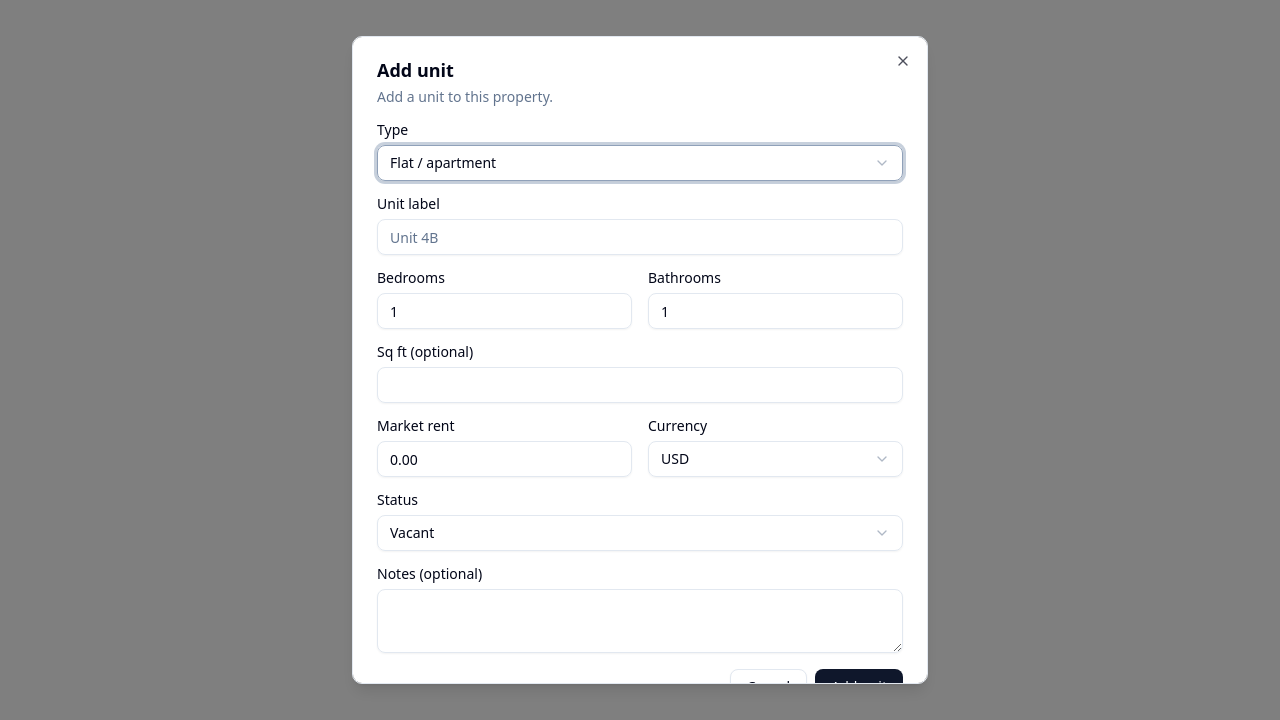
Test case: UnitFormDialog › switching back to flat brings the room fields back
Click the dropdown named "type".
click(443, 162)  # box [377,145,903,181]
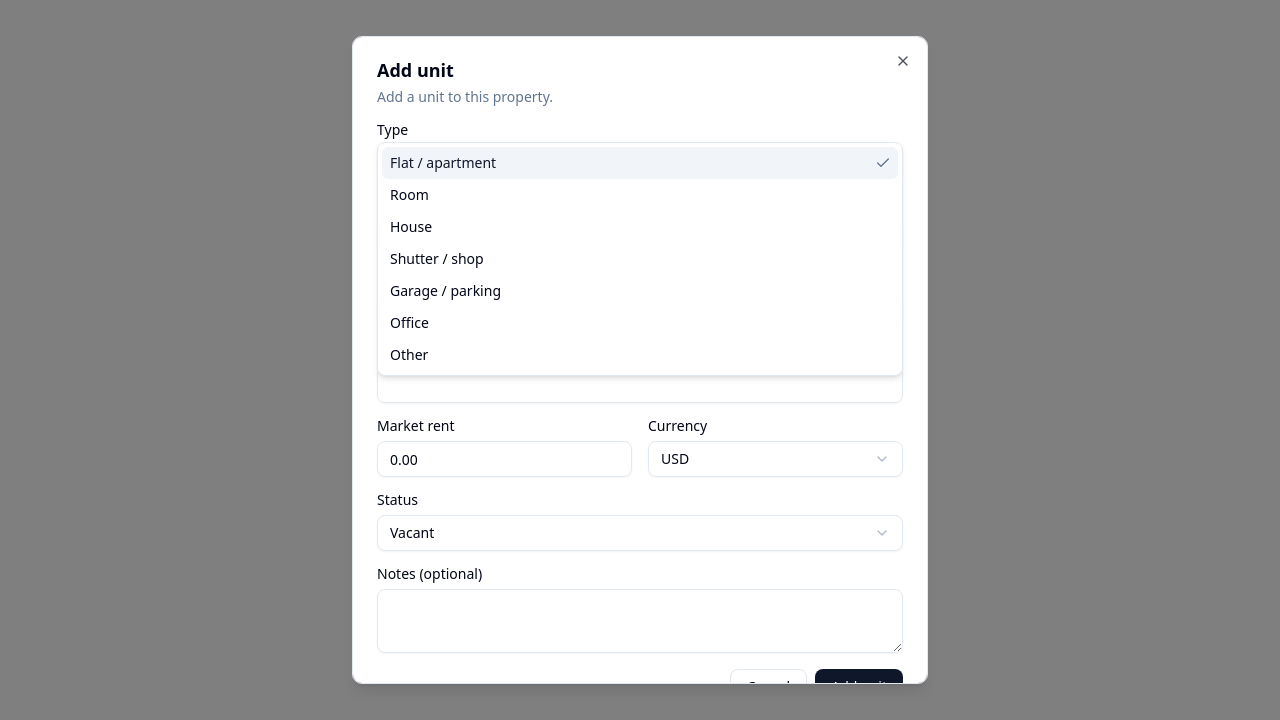
Click the option "Shutter / shop".
click(437, 258)  # box [390,249,484,268]
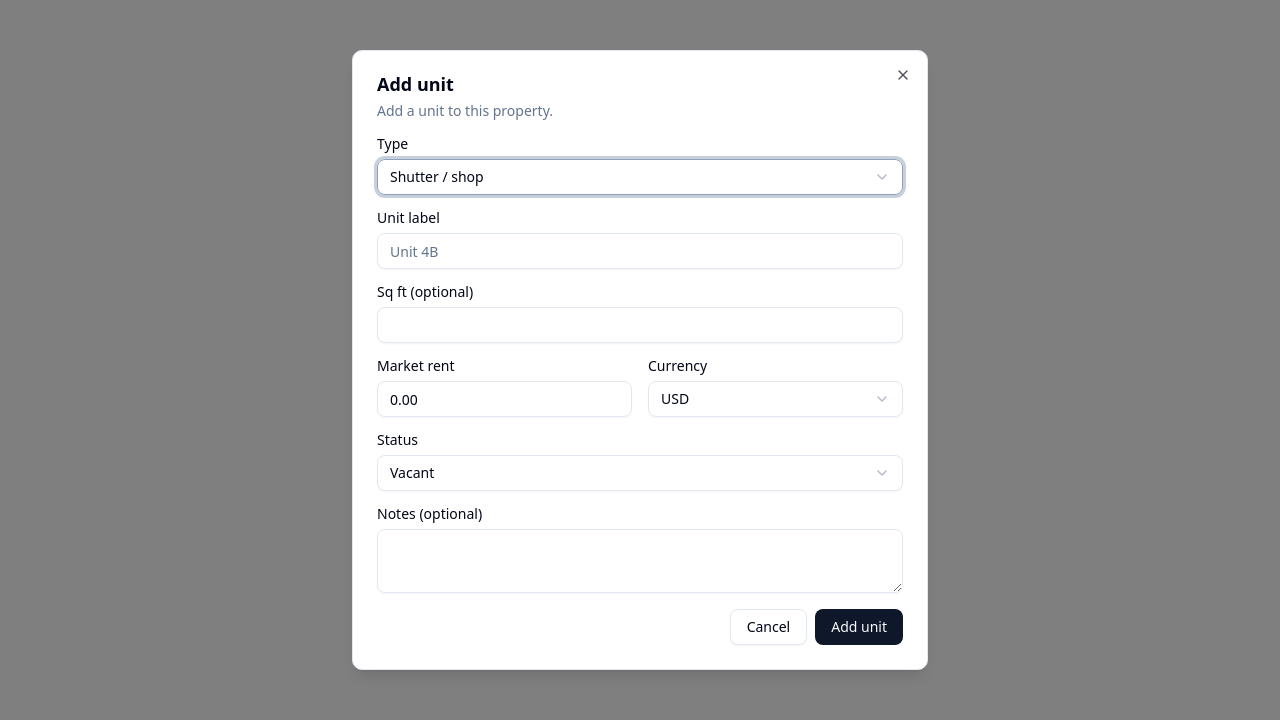
expect the label labelled "Bedrooms" is gone: met
Click the dropdown named "type".
click(437, 176)  # box [377,159,903,195]
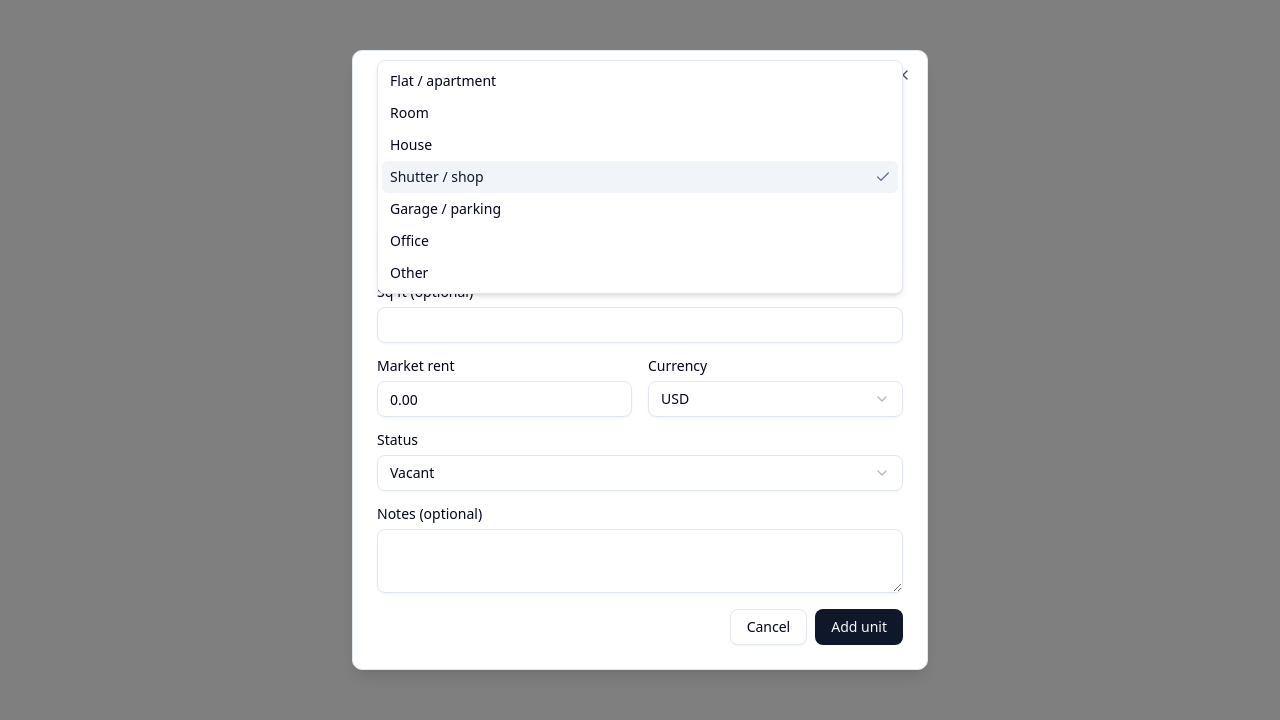
Click the option "Flat / apartment".
click(443, 80)  # box [390,71,496,90]
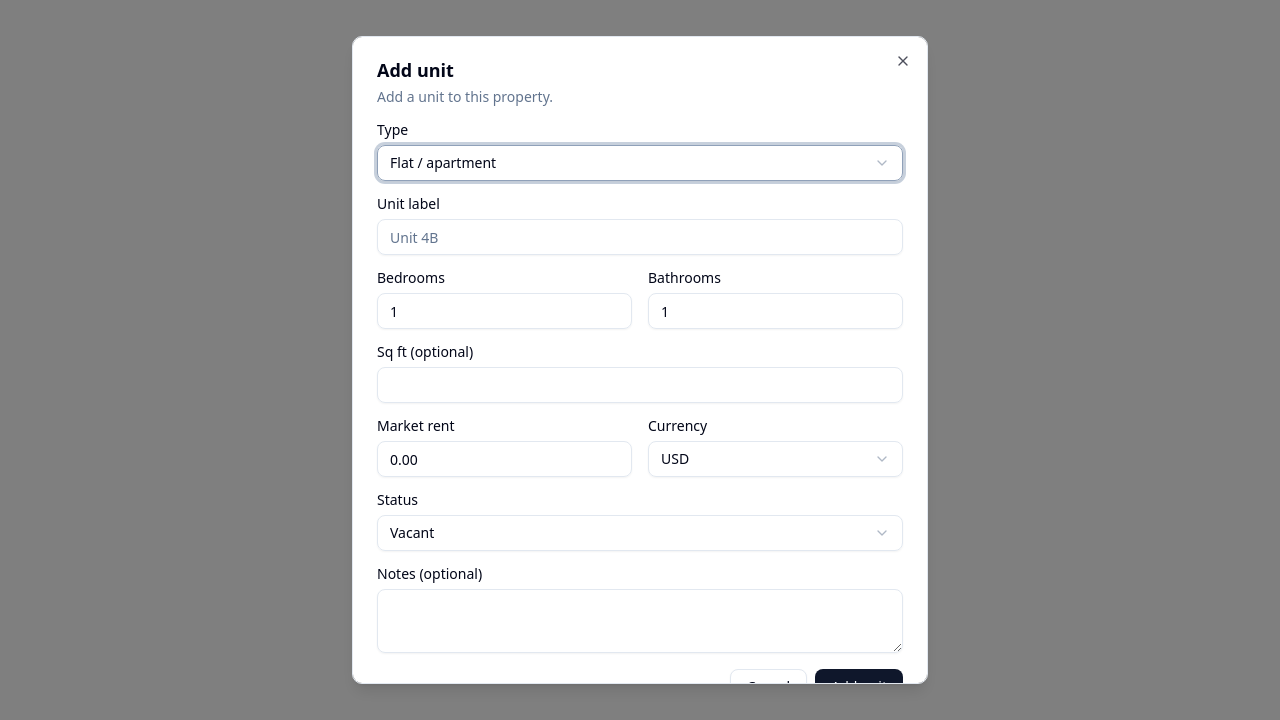
expect the number field labelled "Bedrooms" is shown: met, box [377,293,632,329]
